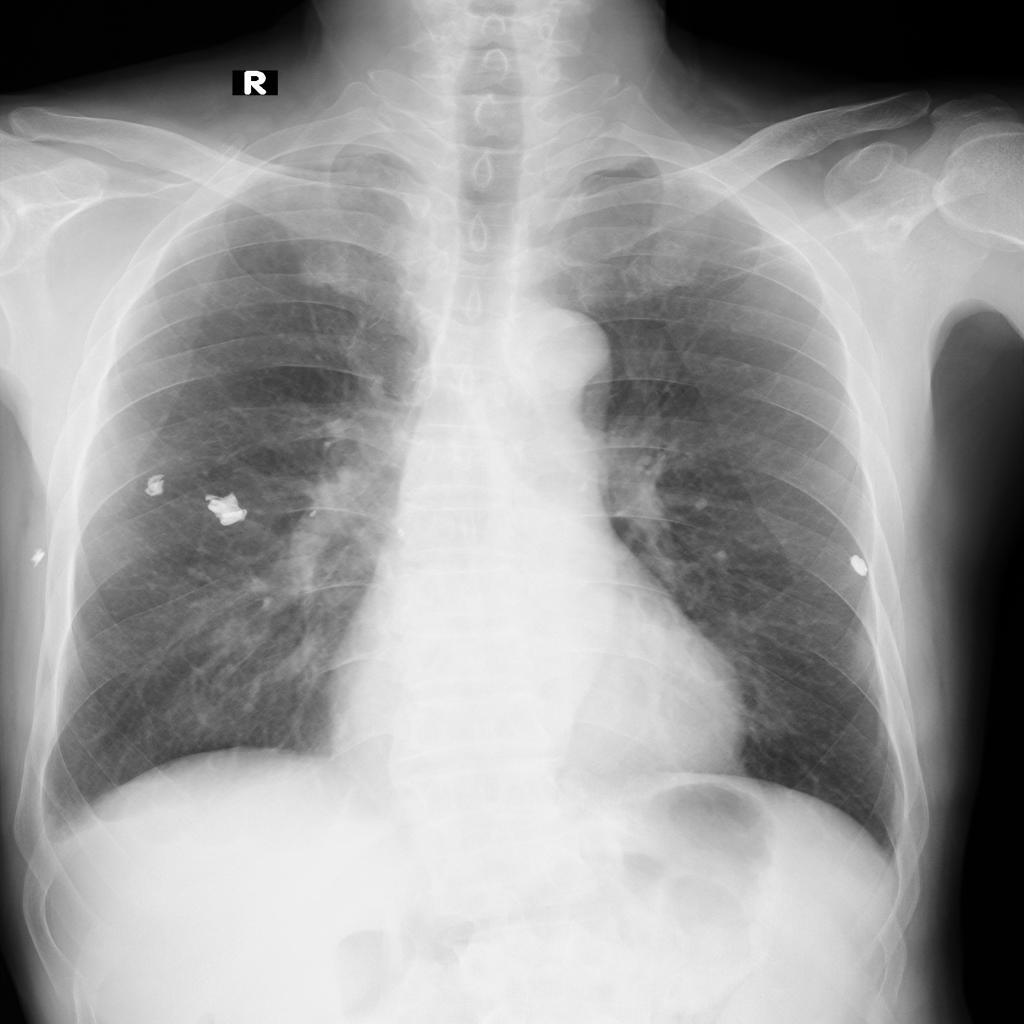Nodule: (206, 493, 249, 528), (140, 473, 167, 498), (851, 554, 869, 578)
